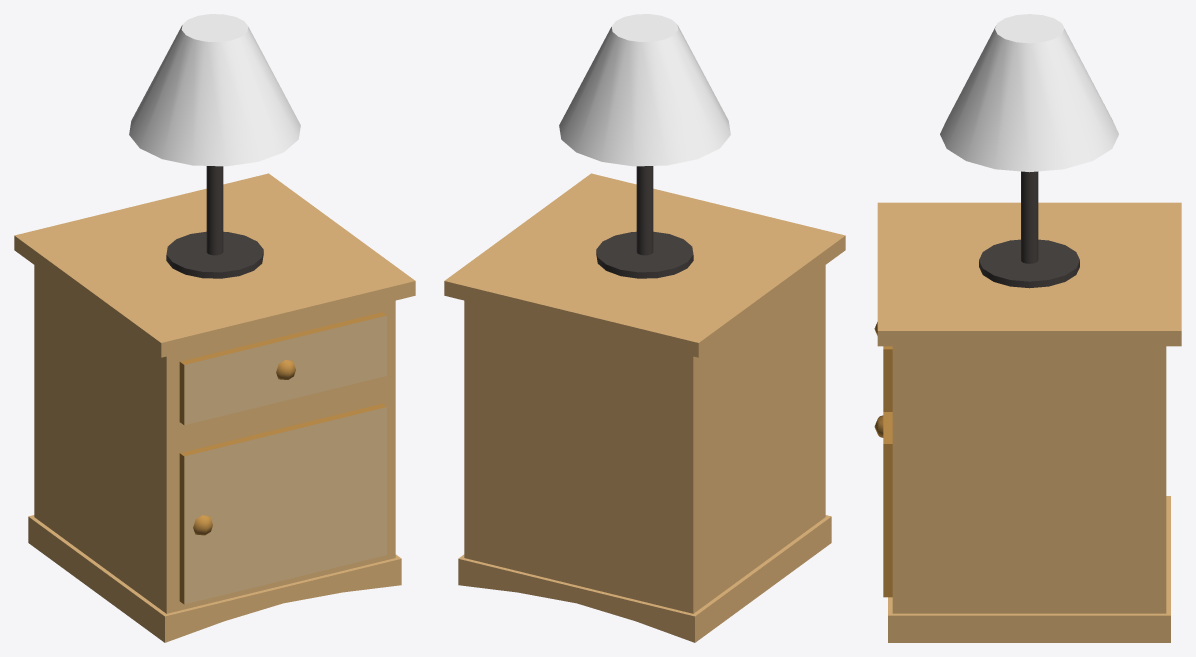
Rendered from Commodin.fbx.
3 views of the same model, side by side, from view 1: azimuth 30°, elevation 25°; view 2: azimuth 150°, elevation 25°; view 3: azimuth 270°, elevation 25° (orthographic). The views are drawn at different scales.
Parts seen in each view (by area): view 1: Commodin, Lamp; view 2: Commodin, Lamp; view 3: Commodin, Lamp.
Boxes of the visible parts, x1,y1,x2,y2 form: Commodin: (14,173,415,642); Lamp: (129,14,300,278); Commodin: (444,173,845,642); Lamp: (559,14,730,278); Commodin: (874,202,1181,642); Lamp: (940,14,1118,288).
Bounding box in the file's own units: 46.45 × 93.49 × 46.92.
